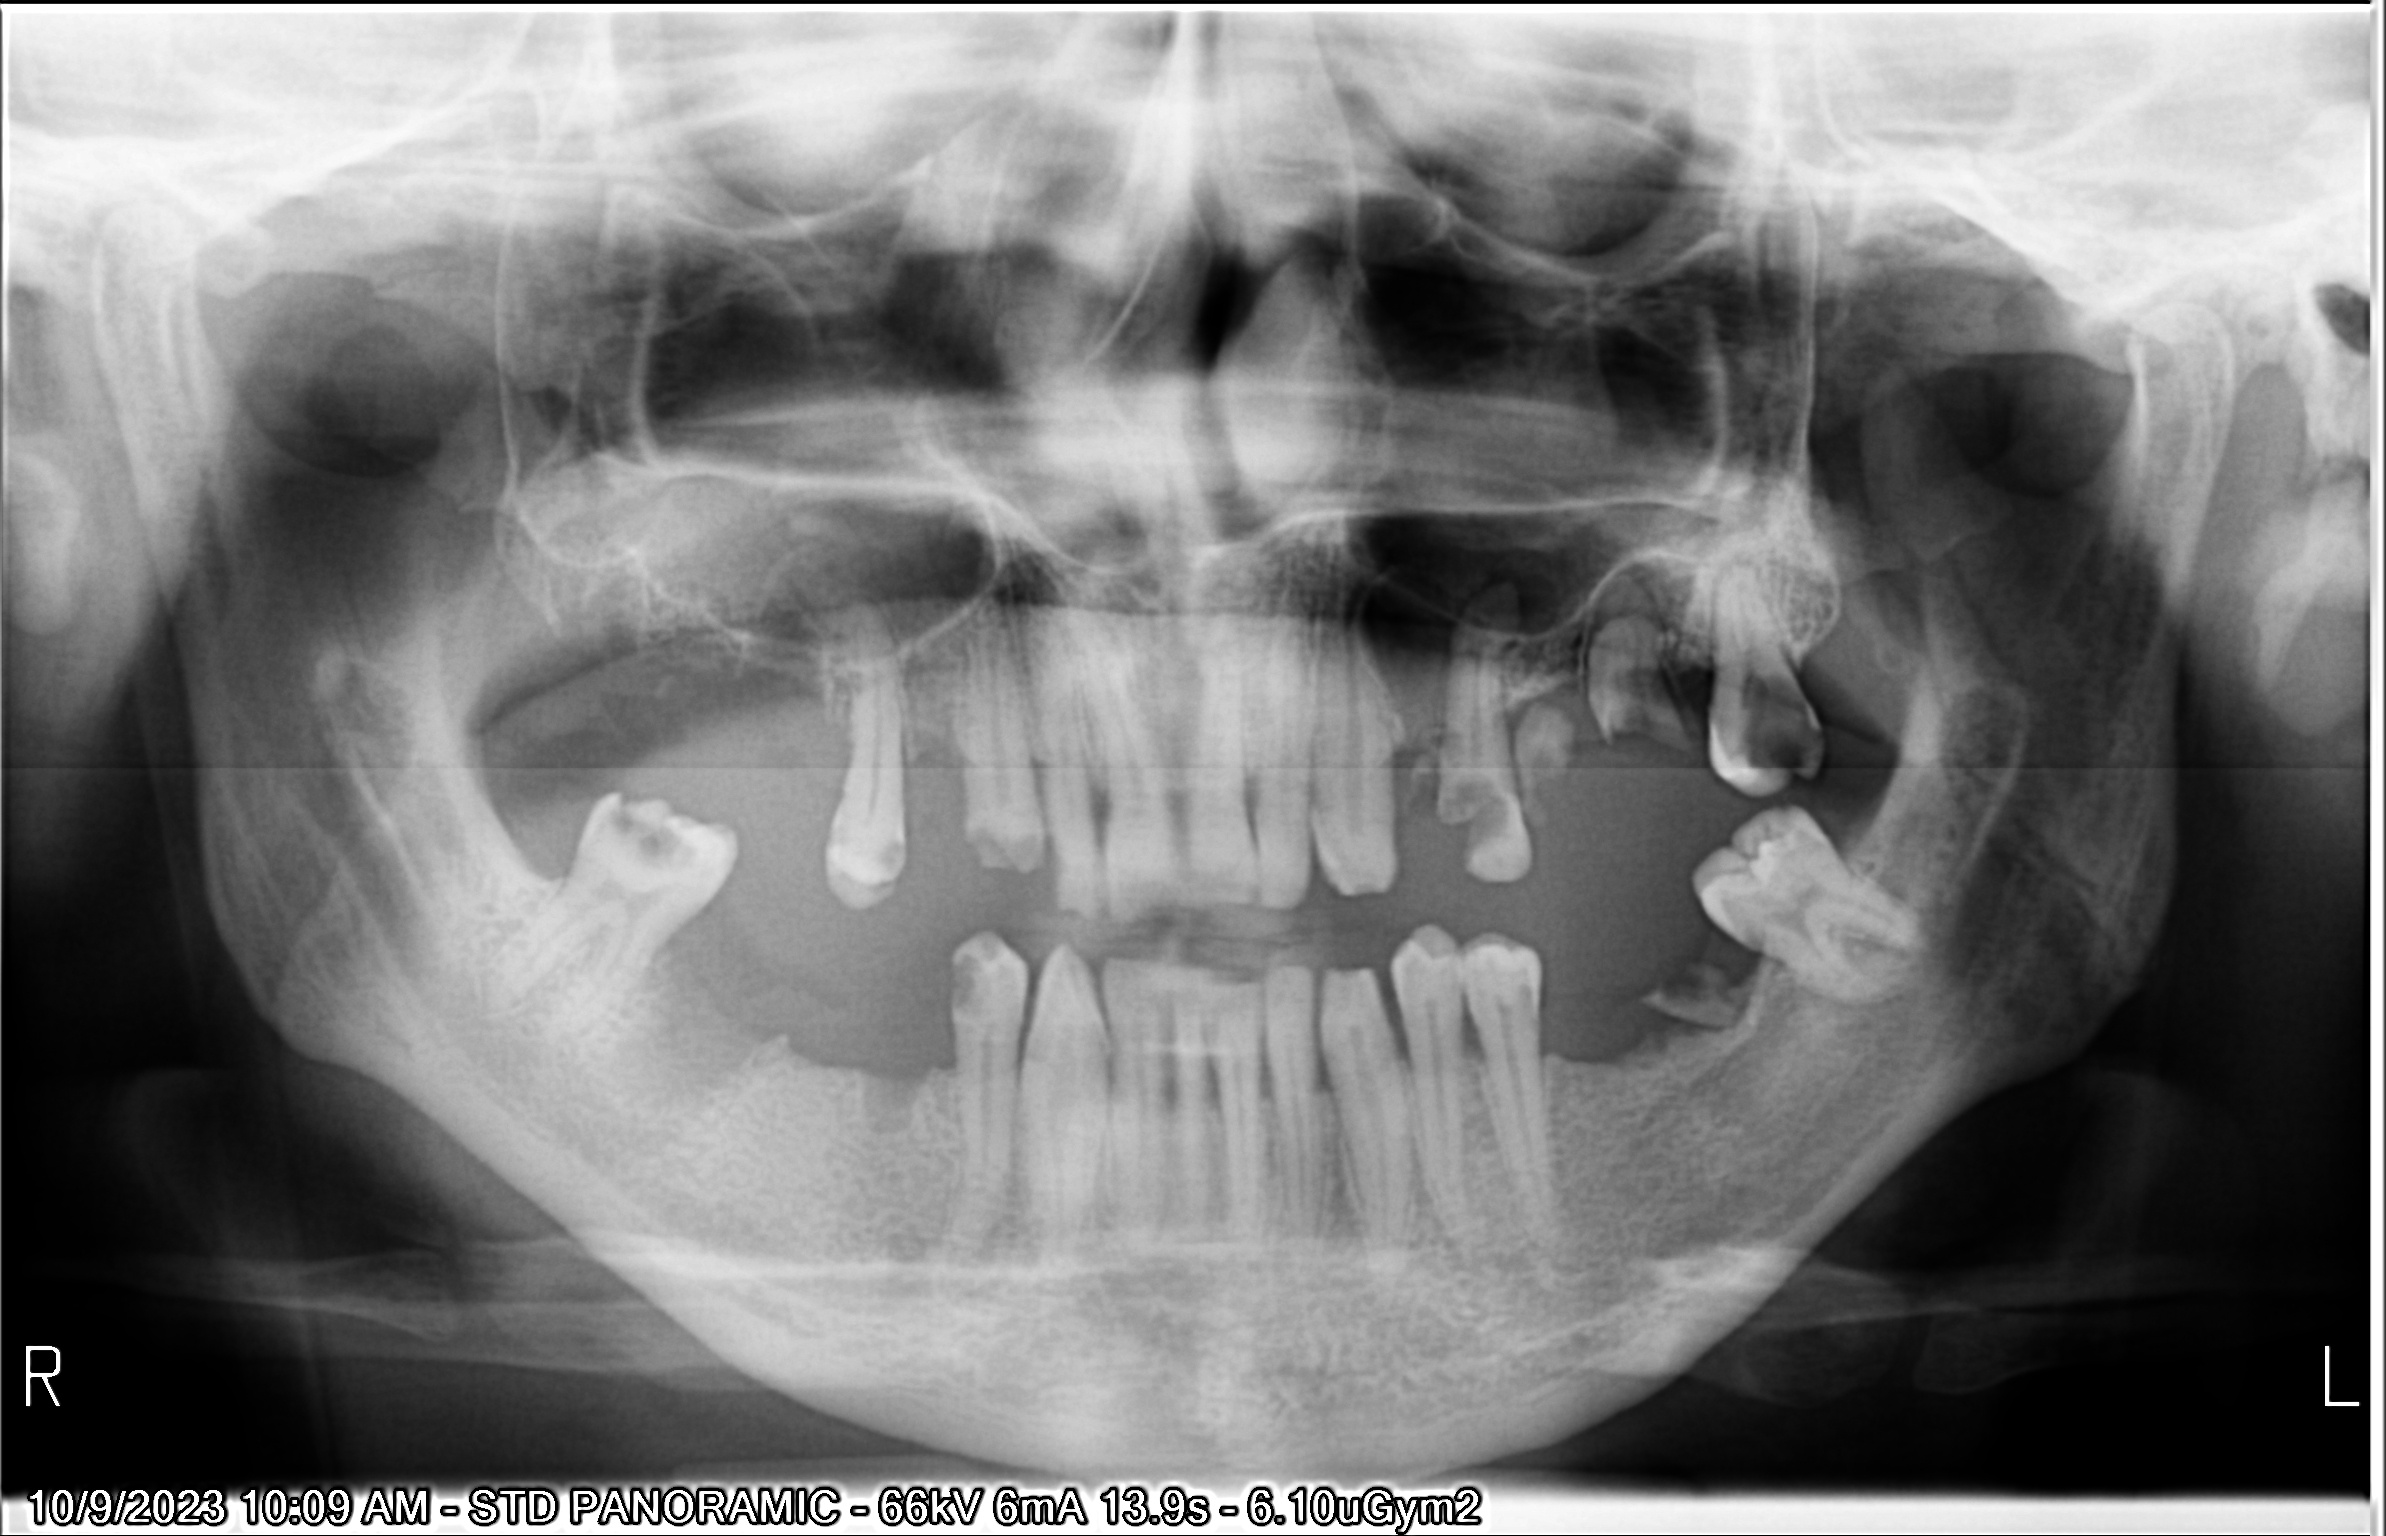CAR: (1720, 664, 1836, 791), (605, 785, 713, 873), (1435, 771, 1520, 877), (868, 825, 929, 878), (939, 946, 990, 1011), (1009, 819, 1052, 880), (812, 809, 857, 858), (967, 830, 1009, 870)
ROT: (1562, 578, 1703, 755), (1626, 945, 1755, 1061), (1506, 701, 1595, 800)
